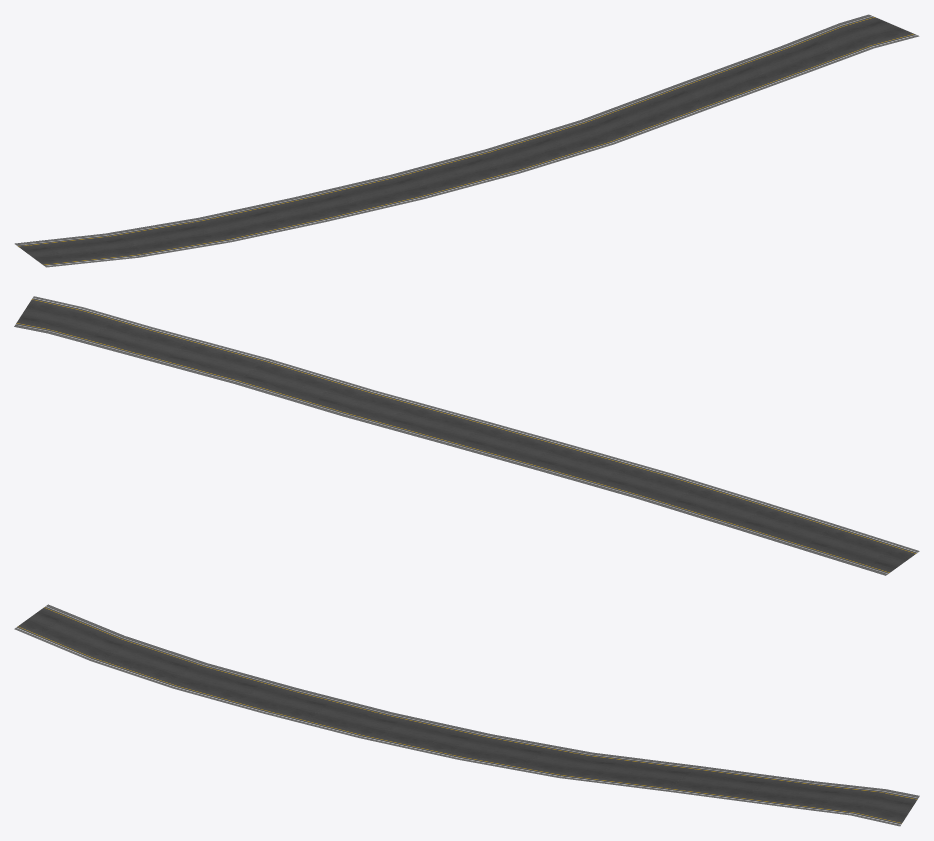
Rendered from Hills_track1_shadow.fbx.
3 views of the same model, one above another, from view 1: azimuth 30°, elevation 25°; view 2: azimuth 150°, elevation 25°; view 3: azimuth 330°, elevation 25° (orthographic). The views are drawn at different scales.
Visible parts, largest first — view 1: polySurface121; view 2: polySurface121; view 3: polySurface121.
Boxes of the visible parts, bbox=[...] form: polySurface121: bbox=[14, 14, 919, 267]; polySurface121: bbox=[14, 296, 919, 575]; polySurface121: bbox=[14, 604, 919, 826].
Size of the model in its own units: 24.66 by 0.8785 by 2.76.
1 material, 1 textured.
